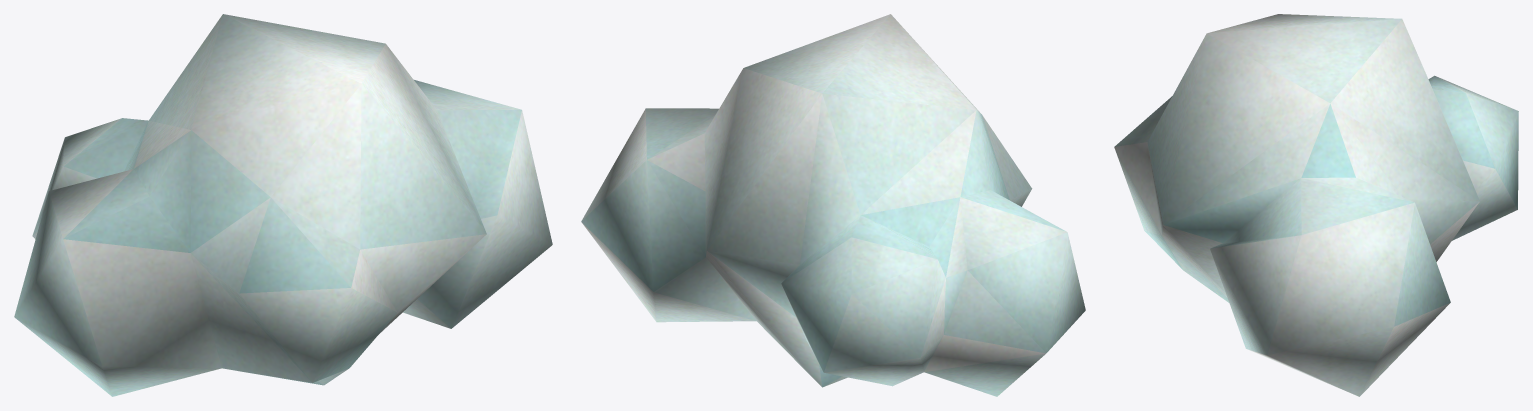
The model's file is Cloud-02.fbx.
3 renders of one model, left to right at view 1: azimuth 30°, elevation 25°; view 2: azimuth 150°, elevation 25°; view 3: azimuth 270°, elevation 25°, orthographic. The views are drawn at different scales.
Visible parts, largest first — view 1: Cloud-02; view 2: Cloud-02; view 3: Cloud-02.
Boxes of the visible parts, box(x1,y1,x2,y2) form: Cloud-02: box(14, 14, 552, 396); Cloud-02: box(581, 14, 1085, 396); Cloud-02: box(1114, 14, 1518, 396).
Bounding box in the file's own units: 1.77 × 1.1 × 1.37.
